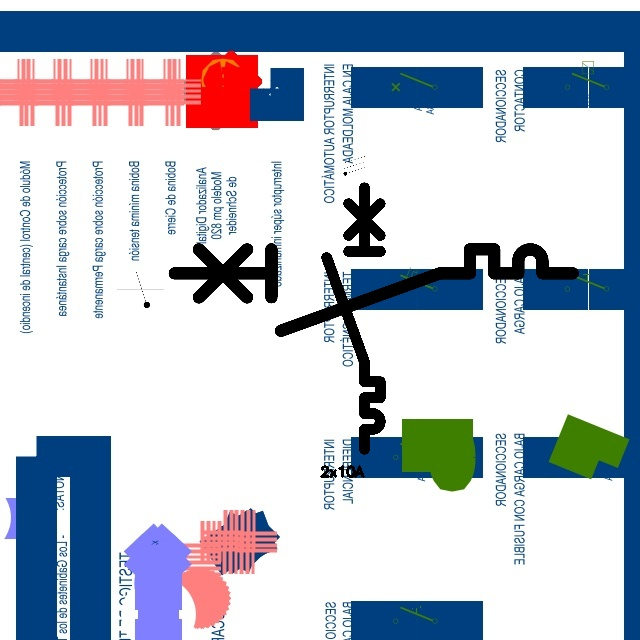interruptor_termomagnetico: (164, 239, 583, 341), (320, 181, 387, 456)
